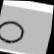no answer: (0, 17, 28, 48)
